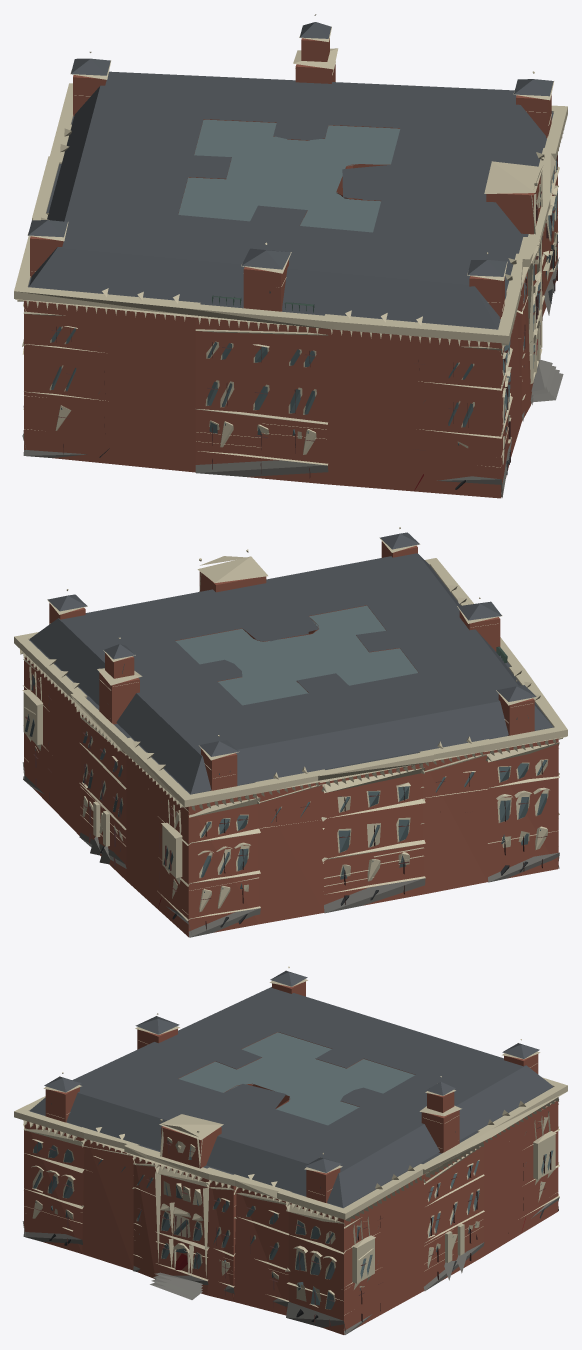
The model's file is droogbak.lod1.glb.
3 renders of one model, top to bottom at view 1: azimuth 30°, elevation 25°; view 2: azimuth 150°, elevation 25°; view 3: azimuth 270°, elevation 25°, orthographic. The views are drawn at different scales.
Parts seen in each view (by area): view 1: droogbak; view 2: droogbak; view 3: droogbak.
Boxes of the visible parts, x1,y1,x2,y2 form: droogbak: (14,14,567,498); droogbak: (14,527,567,937); droogbak: (14,966,567,1334).
Size of the model in its own units: 73.12 by 29.87 by 77.24.
